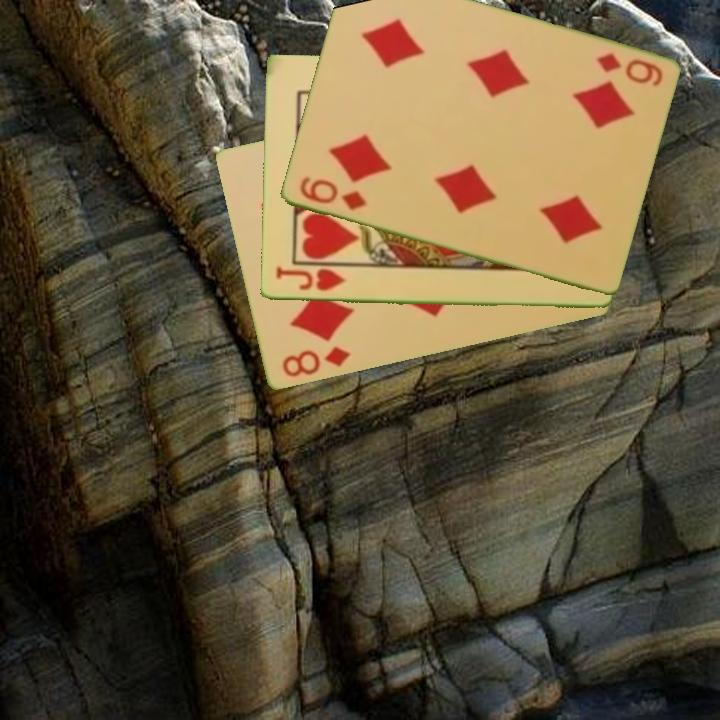6d: (295, 173, 369, 214), (592, 50, 665, 90)
8d: (278, 343, 353, 381)
Jh: (272, 264, 348, 294)
